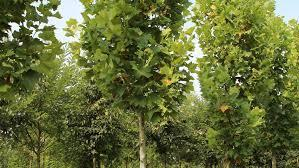tree: (78, 2, 193, 168)
